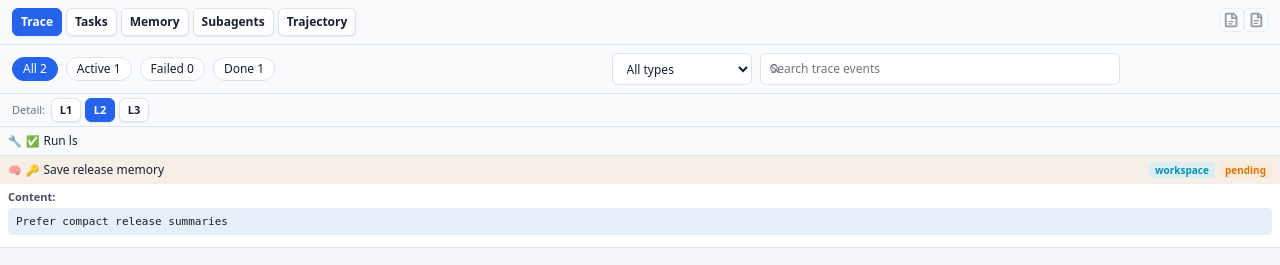
Scenario: TraceTimeline › filters visible memory trace entries by scope and content
The width and height of the screenshot is (1280, 265).
Type "compact" into the search field with test id "trace-search-input" at (940, 69), box [760, 53, 1120, 85]
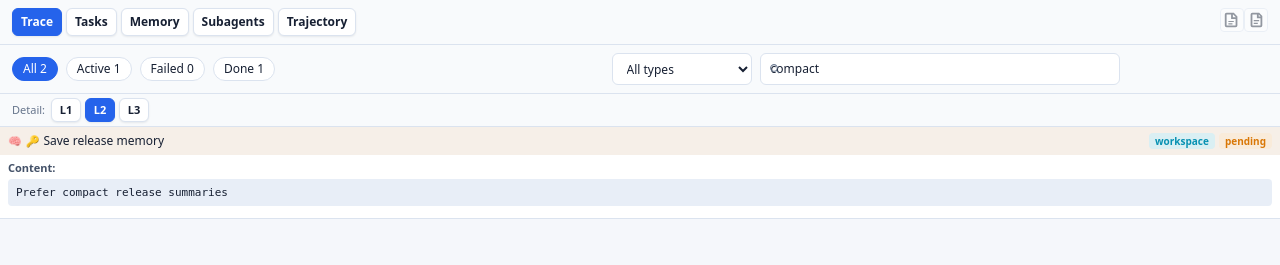
Expected: the text "Save release memory" is shown, [43, 132, 164, 149]
Expected: the text "Run ls" is gone
